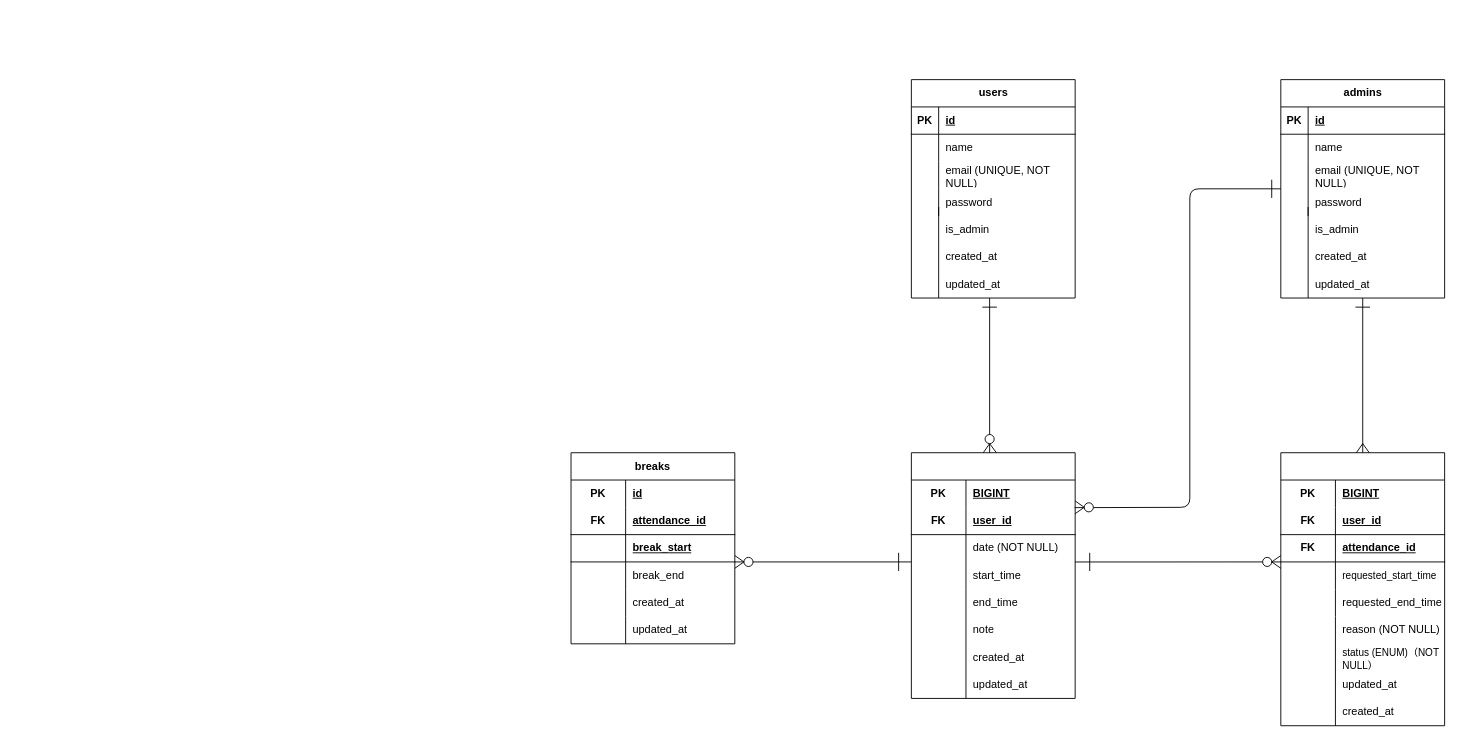
This 1461x743 diagram has some shape labels left out. The shapes that lost their labels are listed below. From the top down, each one's box as (x1, y1, x2, y2) in pixels, then its label:
(910, 452, 1075, 698): attendances
(1280, 452, 1445, 726): correction_requests
